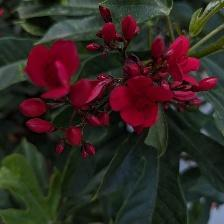jatropha: (111, 73, 170, 132)
